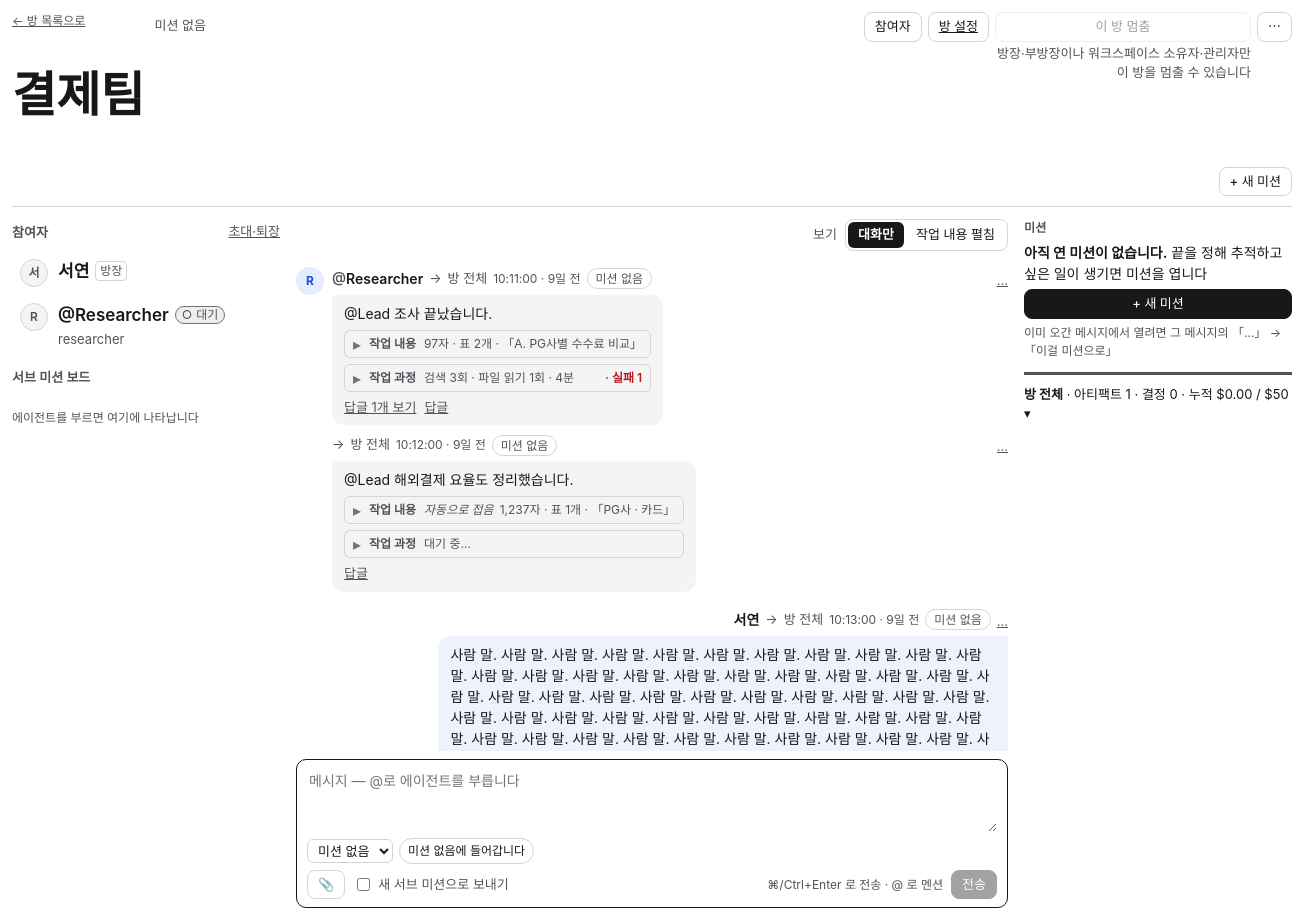
Scenario: 세 층 — 대화만 기본, 접힌 줄, 없는 층은 줄이 없다 › detail 이 있는 에이전트 메시지 — 대화는 보이고 「작업 내용 · 글자 수 · 표 N개 · 「첫 줄」」 줄이 접힌 채
Expected: the element with test id "room-title" is shown, [12,65,144,124]
Expected: the text "@Lead 조사 끝났습니다." is shown, [344,305,492,322]
// 펼치면 aria-controls 가 펼친 영역을 가리킨다.
Click the 1st button with test id "detail-fold": (498, 344) [344,330,651,358]
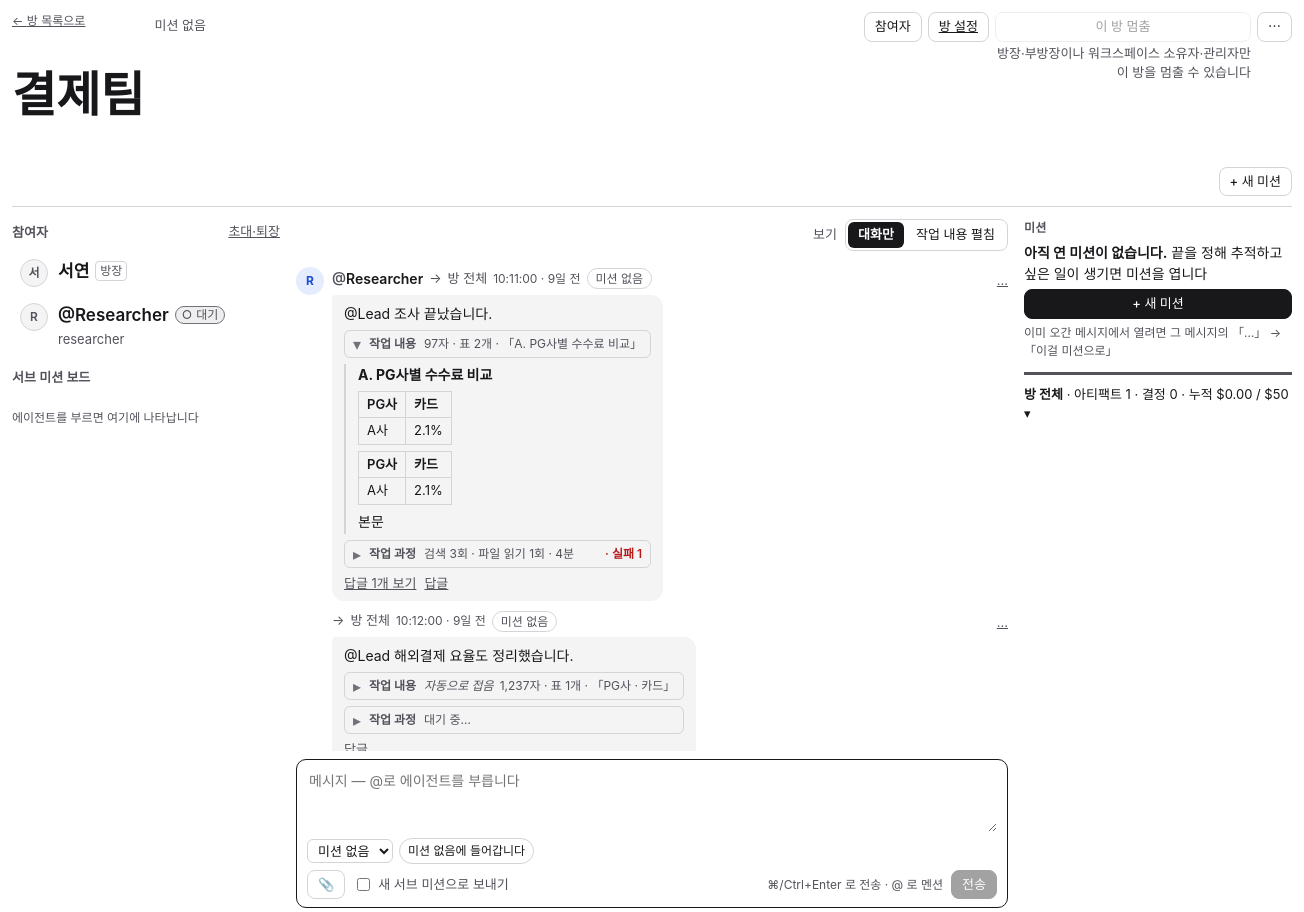
Expected: the button with test id "detail-fold" is expanded, [344,330,651,358]
Expected: the number of tables with class "md-table" is 2, [358,391,452,445]; [358,451,452,505]
